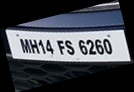character: (19, 38, 31, 53), (28, 38, 40, 53), (85, 38, 96, 54), (93, 39, 104, 54), (78, 39, 88, 55), (64, 39, 74, 54), (102, 38, 112, 53), (38, 38, 46, 53), (45, 38, 53, 53), (56, 39, 64, 54)
